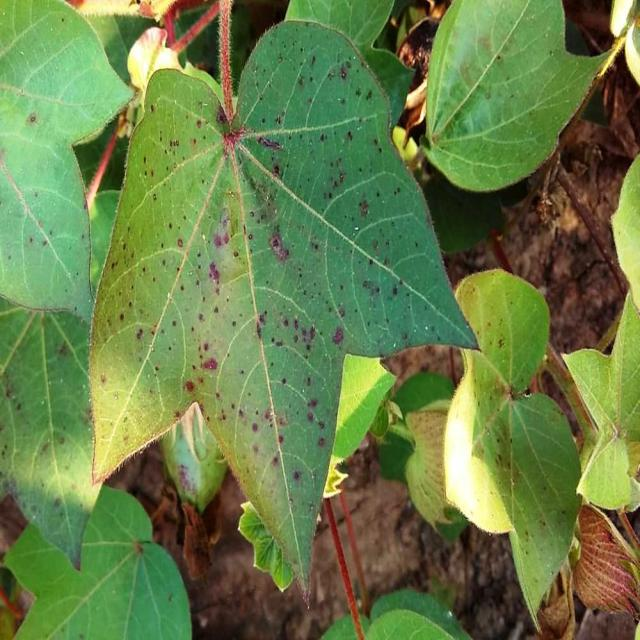Bacterial Blight: (168, 147, 312, 442)
